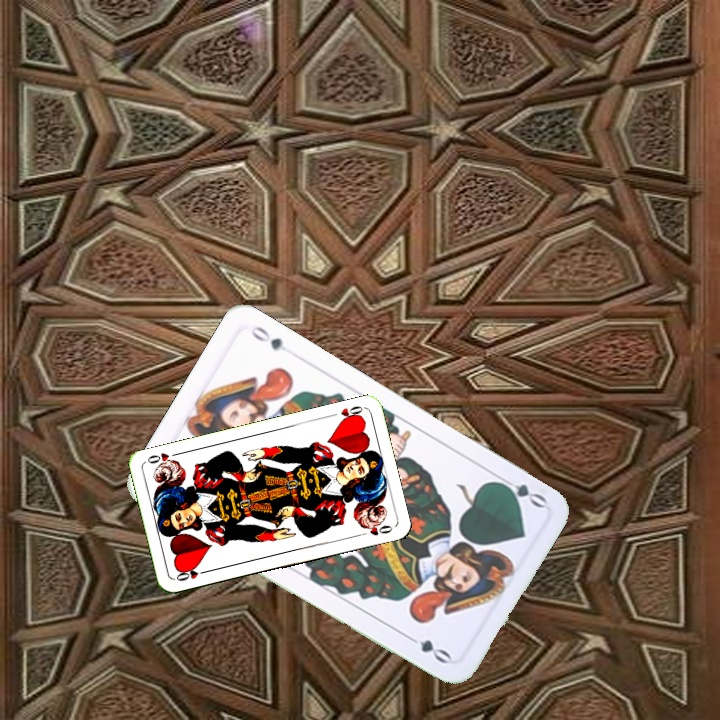GO: (492, 471, 549, 511)
HO: (326, 402, 365, 425), (172, 564, 212, 584)
